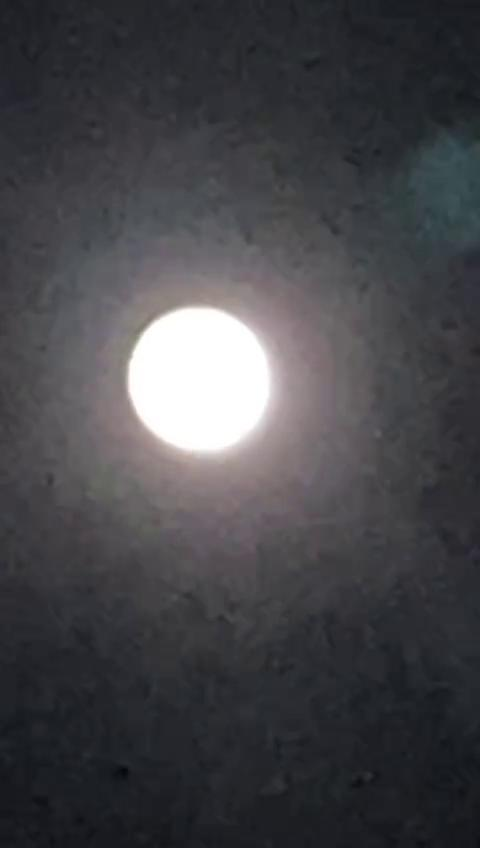moon: (107, 294, 286, 485)
